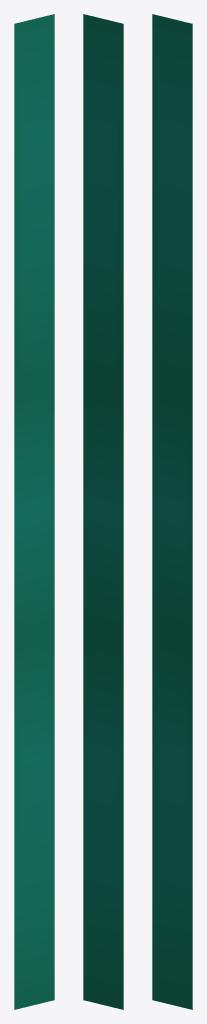
Rendered from CA_Waterfall_01.fbx.
3 views of the same model, side by side, from view 1: azimuth 30°, elevation 25°; view 2: azimuth 150°, elevation 25°; view 3: azimuth 330°, elevation 25° (orthographic).
Visible parts, largest first — view 1: CA_Waterfall_01; view 2: CA_Waterfall_01; view 3: CA_Waterfall_01.
Part boxes in pixels (x1,y1,x2,y2): CA_Waterfall_01: (14, 14, 54, 1009); CA_Waterfall_01: (83, 14, 123, 1009); CA_Waterfall_01: (152, 14, 192, 1009).
Bounding box in the file's own units: 60 × 1400 × 0.
